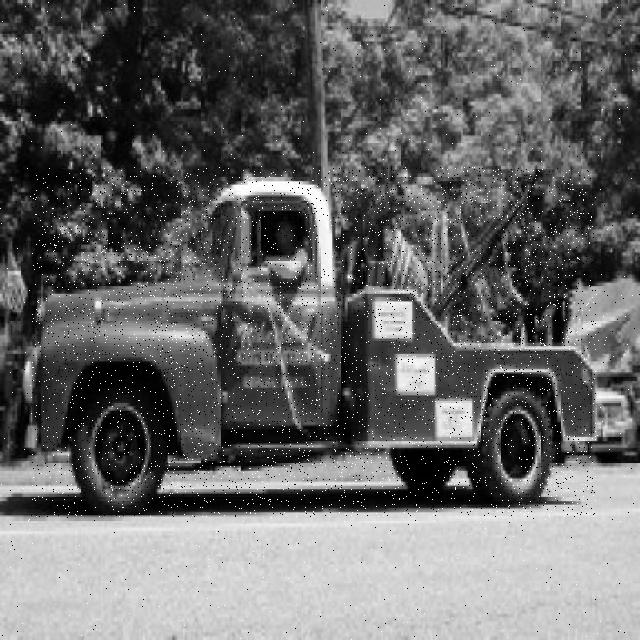Tow Truck: (32, 167, 596, 517)
